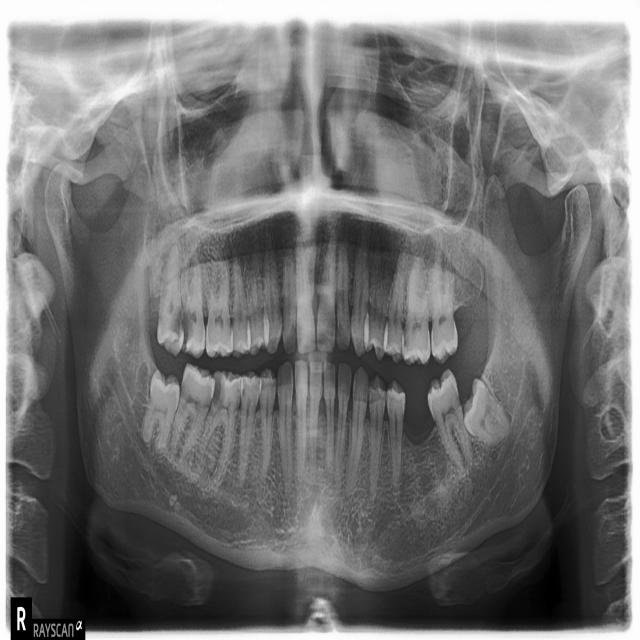mandibula: (44, 163, 594, 588)
